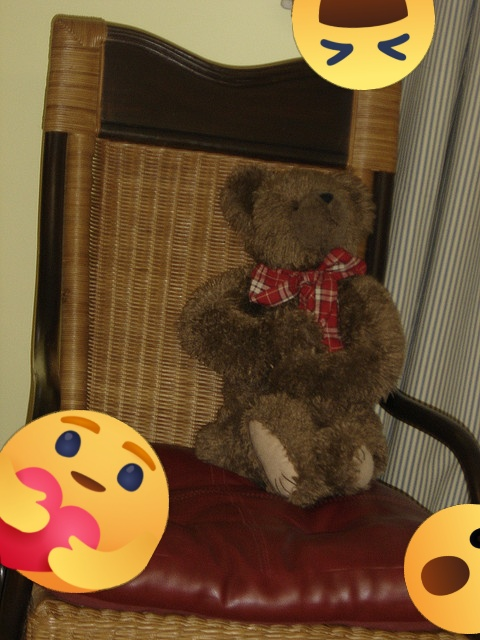care: (0, 410, 169, 593)
haha: (292, 0, 435, 90)
wow: (404, 504, 480, 634)
